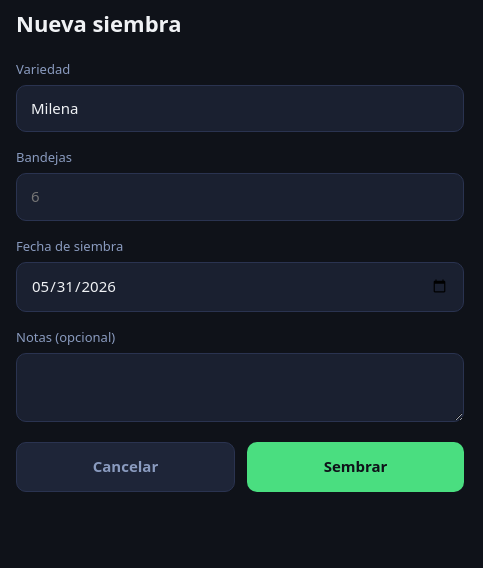
Test: CrearSiembraScreen › valida bandejas > 0 antes de enviar
This screenshot has width=483, height=568.
Type "0" into the number field labelled "Bandejas" at [240, 197], box [16,173,464,221]
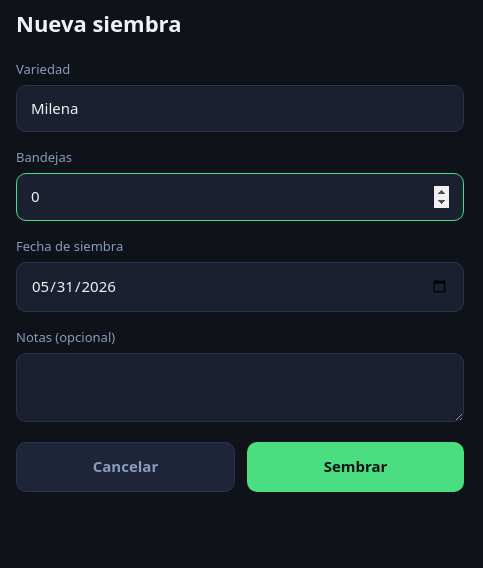
Click the button "Sembrar" at [356, 467], box [247,442,464,492]
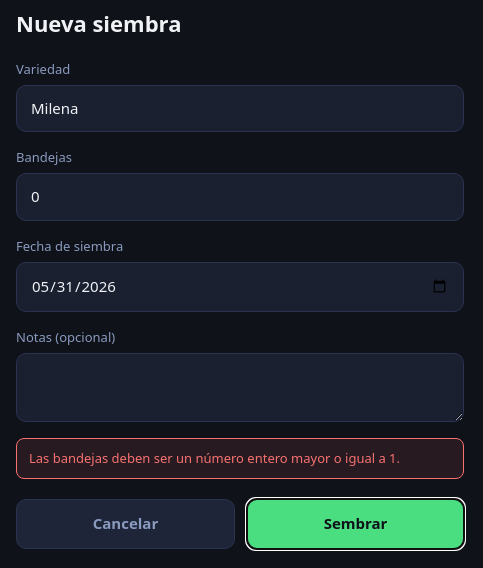
Expected: the message "Las bandejas deben ser un número entero mayor o igual a 1." is shown, [16,438,464,479]
